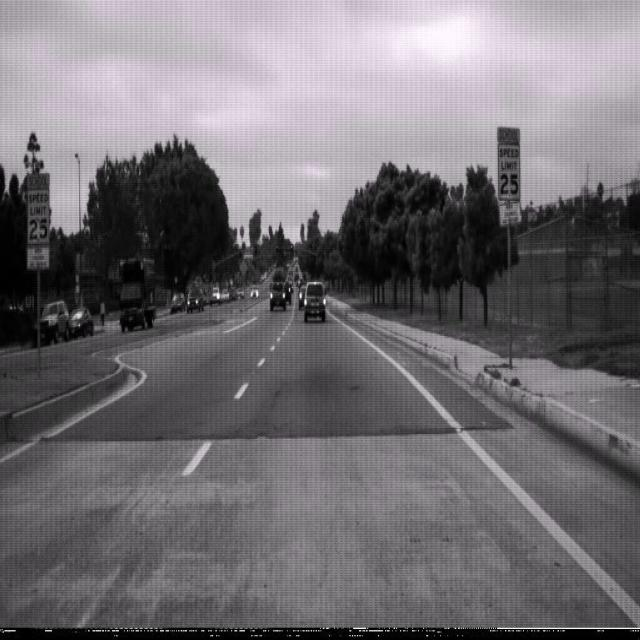speedLimit25: (497, 126, 521, 227), (26, 170, 50, 268)
